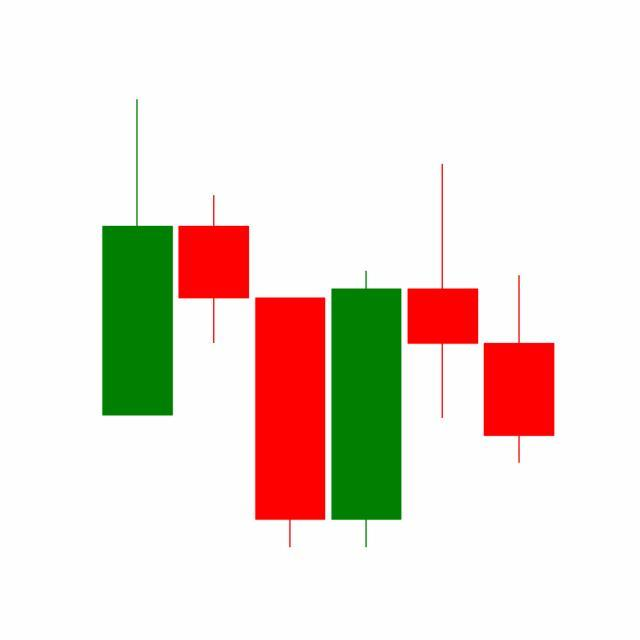Spinning Top: (404, 161, 482, 421)
